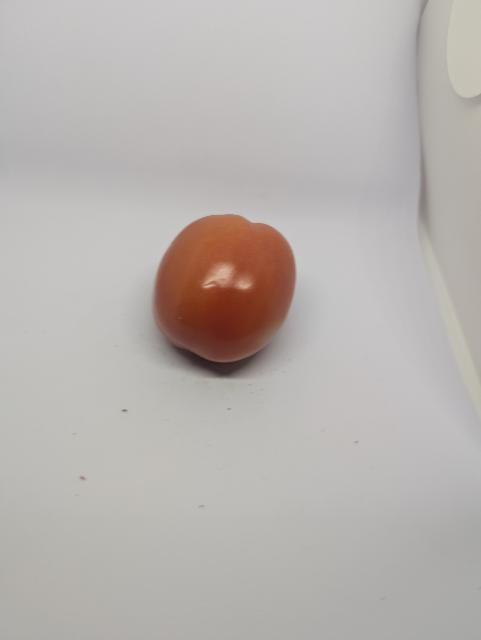red: (143, 204, 312, 371)
